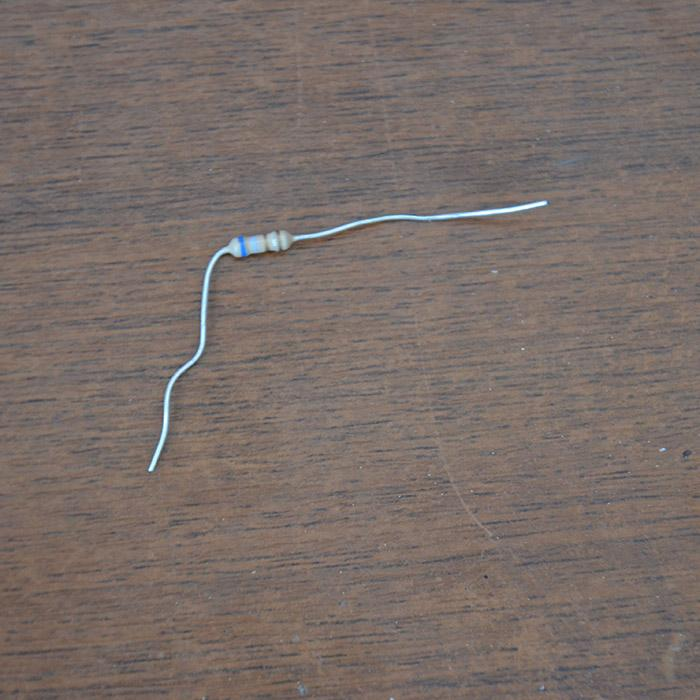resistor: (228, 230, 294, 258)
